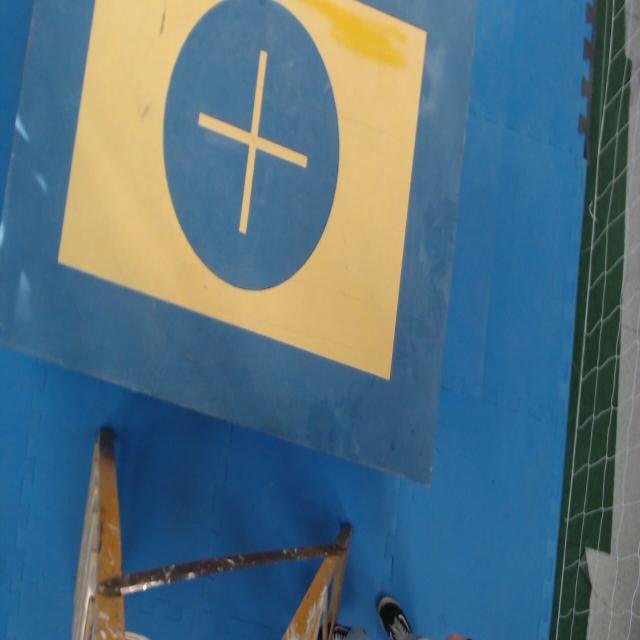base_inicio: (56, 0, 427, 380)
